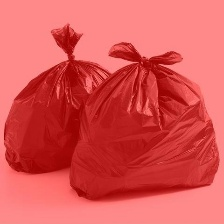plastic_bag: (65, 37, 221, 205), (0, 21, 124, 178)
